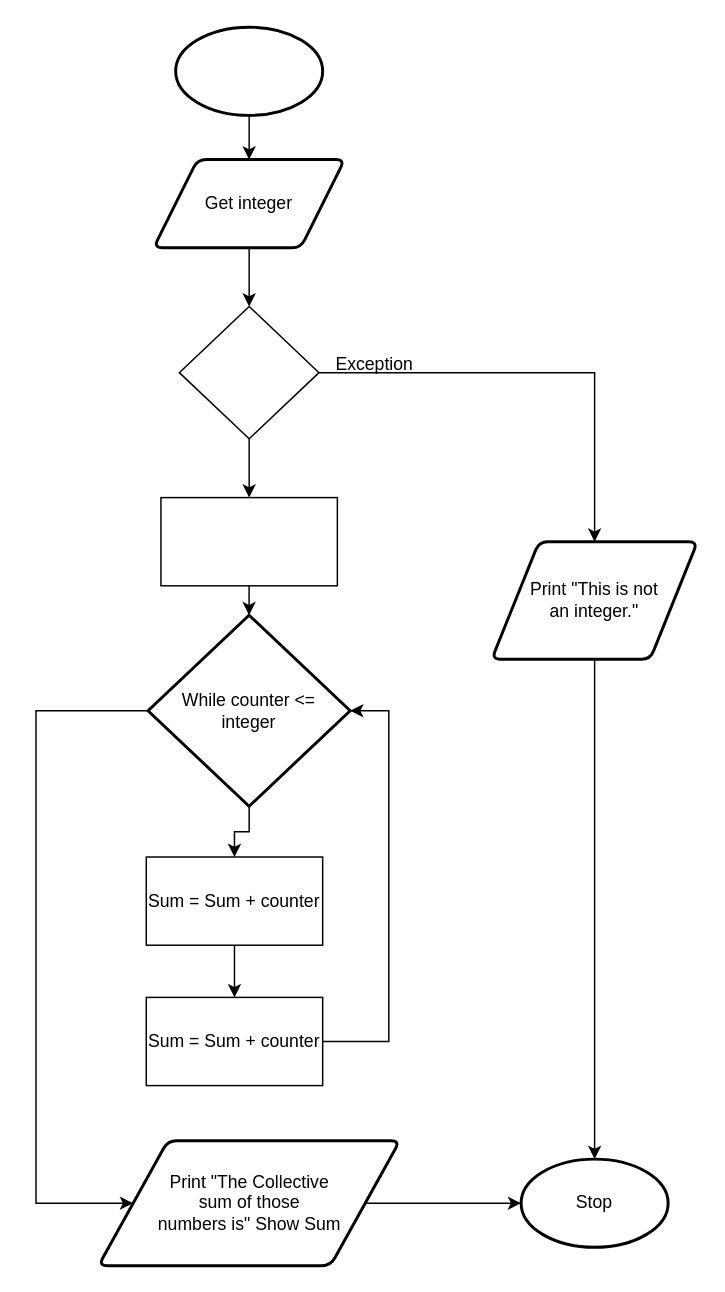
Some shapes in this 725 by 1292 pixel diagram are drawn without their labels. The box of each missing label's shape, as (x1, y1, x2, y2) in pixels:
Convert to Int: (159, 496, 337, 586)
Start: (173, 25, 323, 116)
Try: (178, 305, 319, 439)
